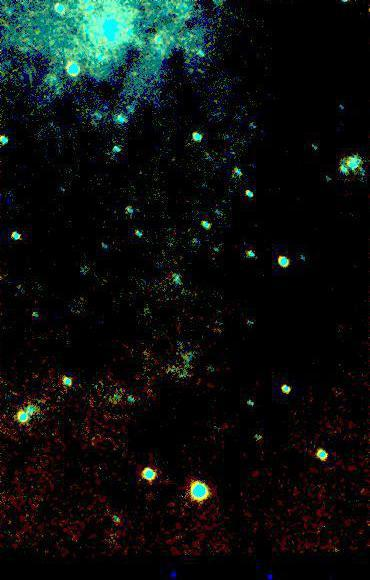star: (125, 60, 155, 90)
